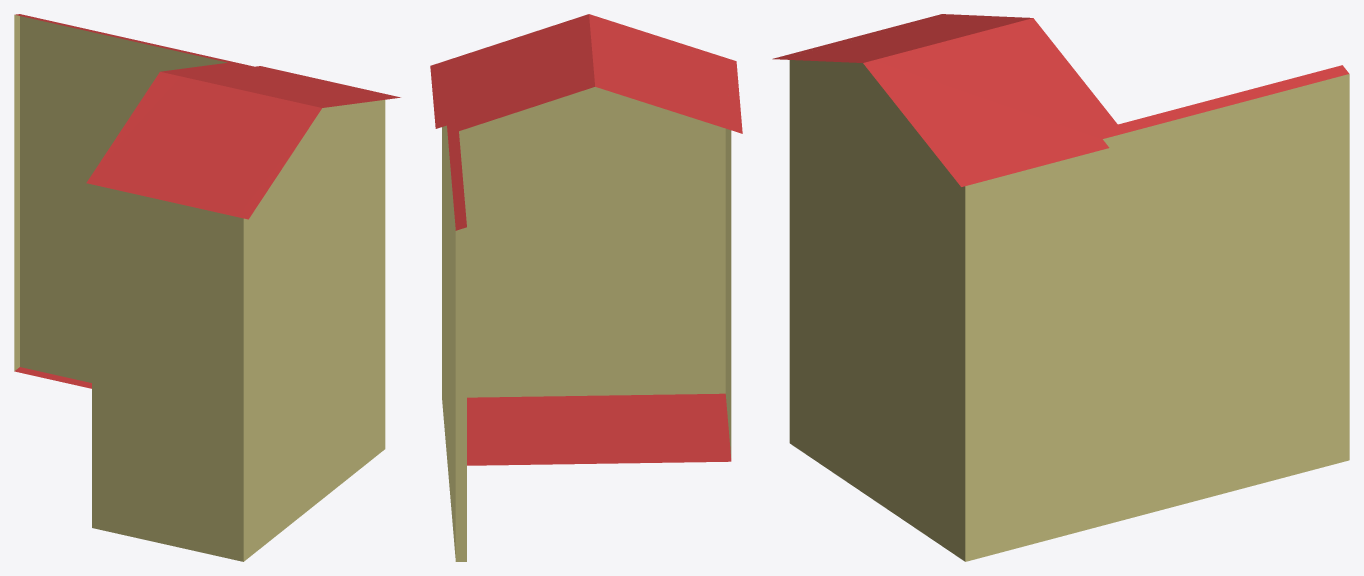
3 views of the same model, side by side, from view 1: azimuth 30°, elevation 25°; view 2: azimuth 150°, elevation 25°; view 3: azimuth 270°, elevation 25° (orthographic). The views are drawn at different scales.
Bounding box in the file's own units: 7.81 × 11.02 × 9.25.
